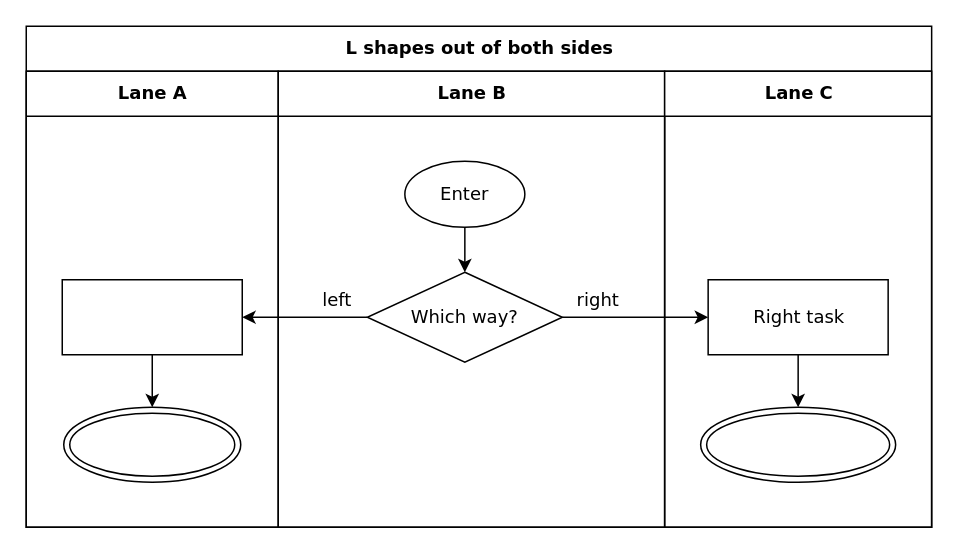
Image size: 959x554. Some labels were removed from this diagram. Each missing label, with the box of its shape:
Left done: (62, 406, 241, 482)
Left task: (61, 278, 242, 355)
Right done: (699, 406, 896, 482)
